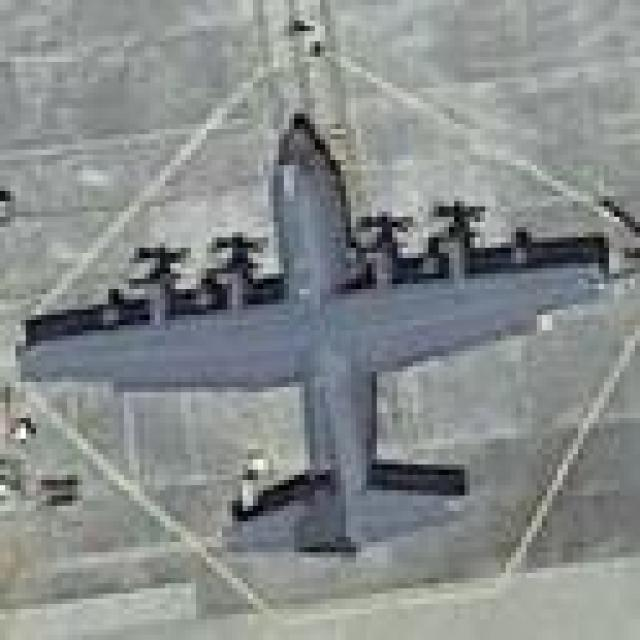C-130_TopDown: (18, 110, 615, 559)
